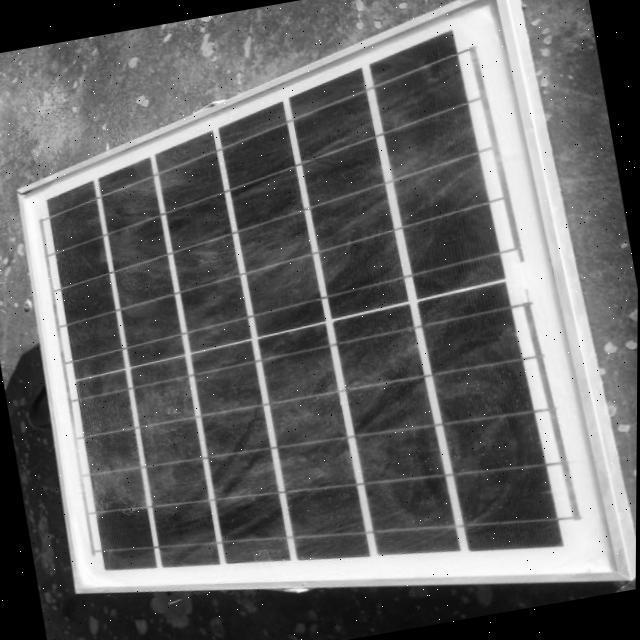Anomaly Solar Panel: (32, 12, 580, 576)
Surface Contaminant: (31, 60, 552, 581)
